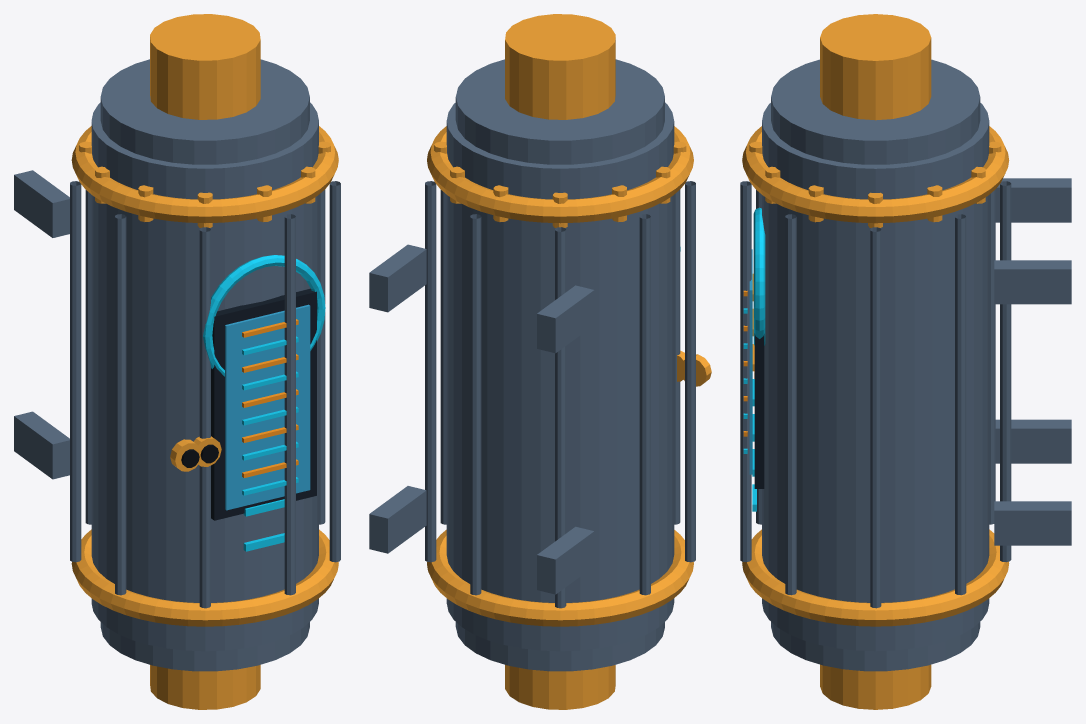
The model's file is 33_L88_OxygenBufferStorageTank.fbx.
The picture shows the model from 3 angles, left to right: view 1: azimuth 30°, elevation 25°; view 2: azimuth 150°, elevation 25°; view 3: azimuth 270°, elevation 25°; orthographic projection.
Visible parts, largest first — view 1: L87_OxygenBufferStorageTank_Part_0000, L87_OxygenBufferStorageTank_Part_0001, L87_OxygenBufferStorageTank_Part_0003, L87_OxygenBufferStorageTank_Part_0002, L87_OxygenBufferStorageTank_Part_0004, L87_OxygenBufferStorageTank_Part_0005, L87_OxygenBufferStorageTank_Part_0006, L87_OxygenBufferStorageTank_Part_0007; view 2: L87_OxygenBufferStorageTank_Part_0000, L87_OxygenBufferStorageTank_Part_0001; view 3: L87_OxygenBufferStorageTank_Part_0000, L87_OxygenBufferStorageTank_Part_0001, L87_OxygenBufferStorageTank_Part_0004, L87_OxygenBufferStorageTank_Part_0002, L87_OxygenBufferStorageTank_Part_0003.
Part boxes in pixels (x1,y1,x2,y2): L87_OxygenBufferStorageTank_Part_0000: [14, 59, 340, 671]; L87_OxygenBufferStorageTank_Part_0001: [71, 14, 338, 709]; L87_OxygenBufferStorageTank_Part_0003: [225, 304, 310, 510]; L87_OxygenBufferStorageTank_Part_0002: [211, 288, 316, 520]; L87_OxygenBufferStorageTank_Part_0004: [203, 255, 325, 495]; L87_OxygenBufferStorageTank_Part_0005: [242, 319, 298, 477]; L87_OxygenBufferStorageTank_Part_0006: [243, 499, 284, 551]; L87_OxygenBufferStorageTank_Part_0007: [170, 439, 201, 471]; L87_OxygenBufferStorageTank_Part_0000: [369, 59, 695, 671]; L87_OxygenBufferStorageTank_Part_0001: [427, 14, 693, 709]; L87_OxygenBufferStorageTank_Part_0000: [740, 59, 1071, 671]; L87_OxygenBufferStorageTank_Part_0001: [742, 14, 1009, 709]; L87_OxygenBufferStorageTank_Part_0004: [743, 207, 765, 453]; L87_OxygenBufferStorageTank_Part_0002: [754, 333, 764, 488]; L87_OxygenBufferStorageTank_Part_0003: [749, 249, 752, 474].
Size of the model in its own units: 112 by 296 by 137.
